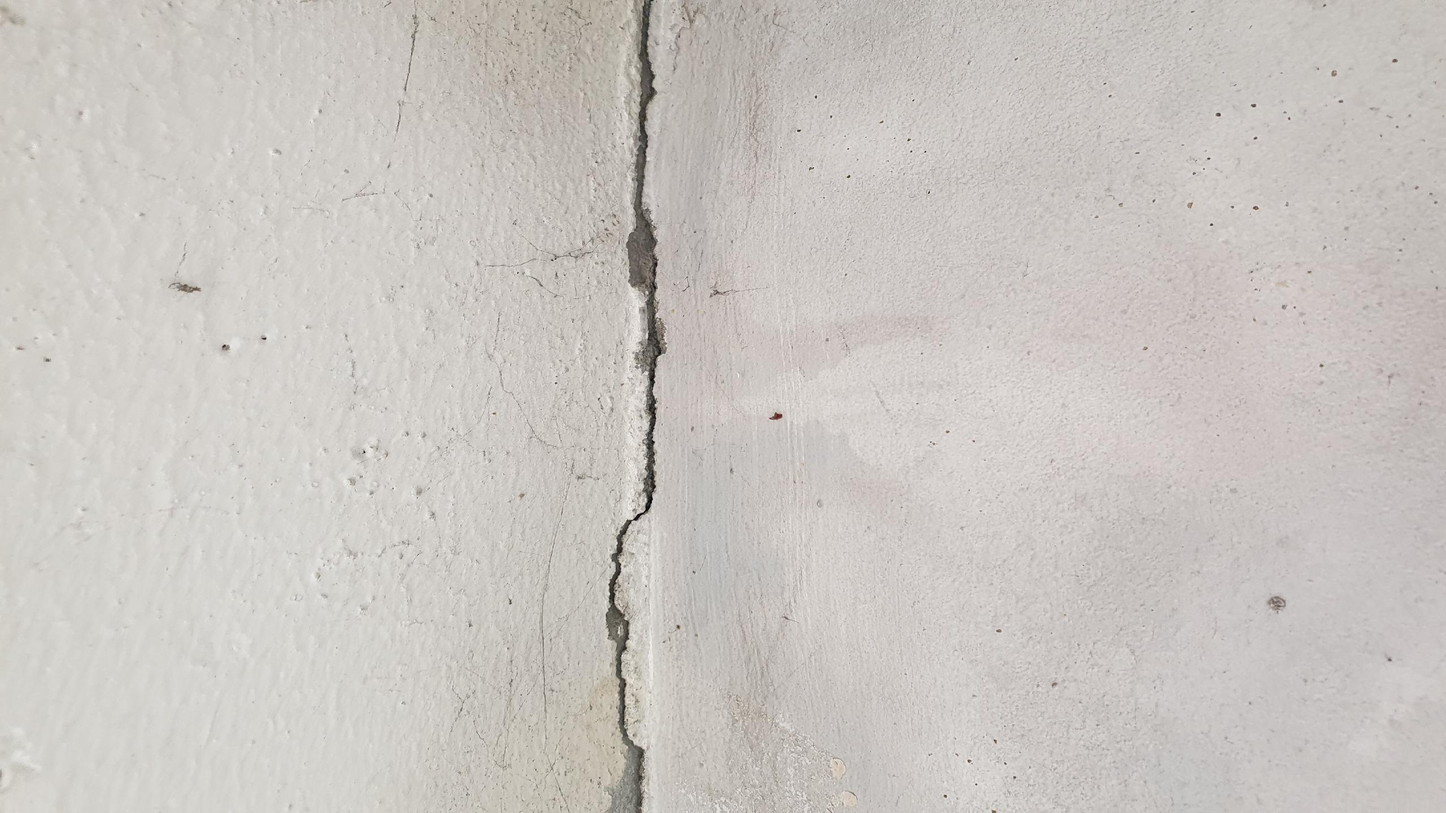crack: (604, 0, 667, 809)
